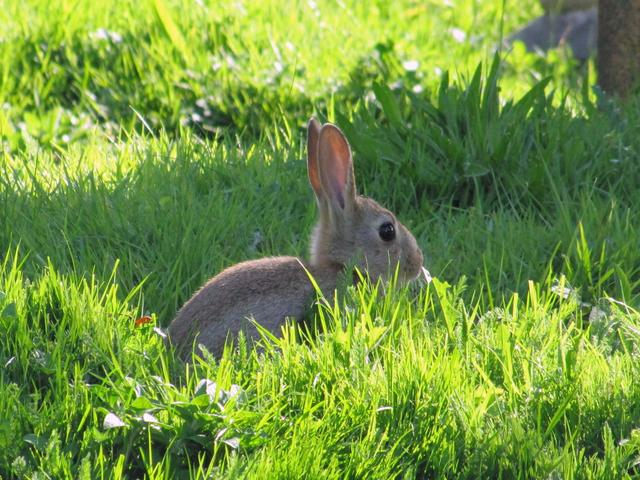rabbit: (122, 104, 484, 422)
